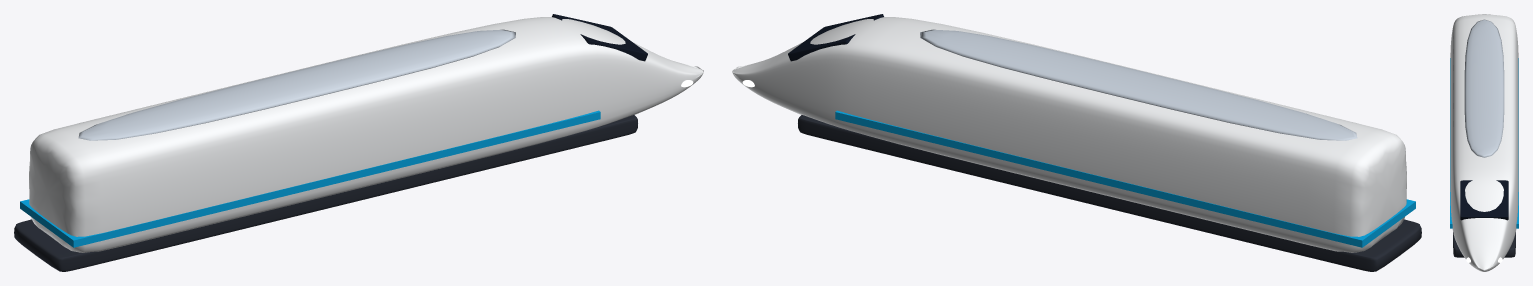
The model's file is tren_ouigo_motriz.glb.
The picture shows the model from 3 angles, left to right: view 1: azimuth 30°, elevation 25°; view 2: azimuth 150°, elevation 25°; view 3: azimuth 270°, elevation 25°; orthographic projection. The views are drawn at different scales.
Visible parts, largest first — view 1: MotrizCuerpo, TechoMotriz, Cube, Cube.001, Cube.002; view 2: MotrizCuerpo, TechoMotriz, Cube, Cube.001, Cube.002; view 3: MotrizCuerpo, TechoMotriz, Cube.002, Cube.001, Cube.
Part boxes in pixels (x1,y1,x2,y2): MotrizCuerpo: [29, 17, 703, 252]; TechoMotriz: [78, 29, 515, 140]; Cube: [14, 115, 637, 271]; Cube.001: [20, 110, 600, 247]; Cube.002: [552, 14, 647, 61]; MotrizCuerpo: [732, 17, 1406, 252]; TechoMotriz: [920, 29, 1357, 140]; Cube: [798, 115, 1421, 271]; Cube.001: [835, 110, 1415, 247]; Cube.002: [788, 14, 883, 61]; MotrizCuerpo: [1450, 14, 1518, 271]; TechoMotriz: [1464, 19, 1504, 157]; Cube.002: [1460, 180, 1508, 220]; Cube.001: [1450, 58, 1518, 228]; Cube: [1453, 232, 1515, 257].
Size of the model in its own units: 21.28 by 3.4 by 2.95.
